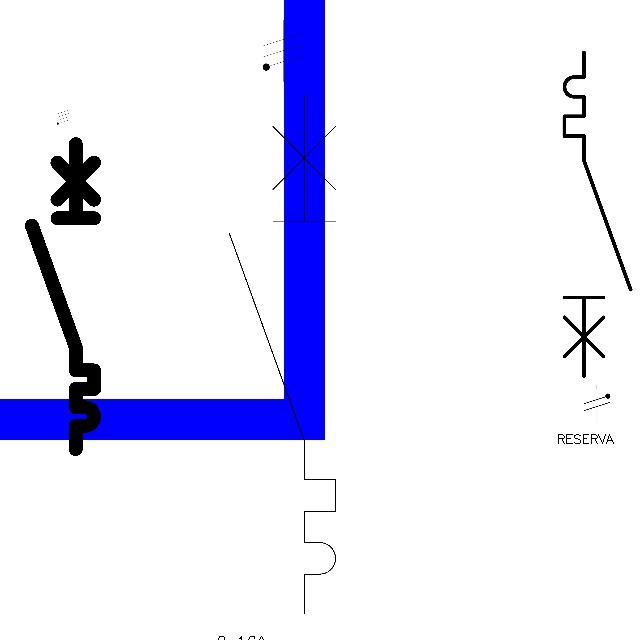interruptor_termomagnetico: (216, 81, 349, 626), (556, 44, 639, 385), (24, 136, 102, 457)
